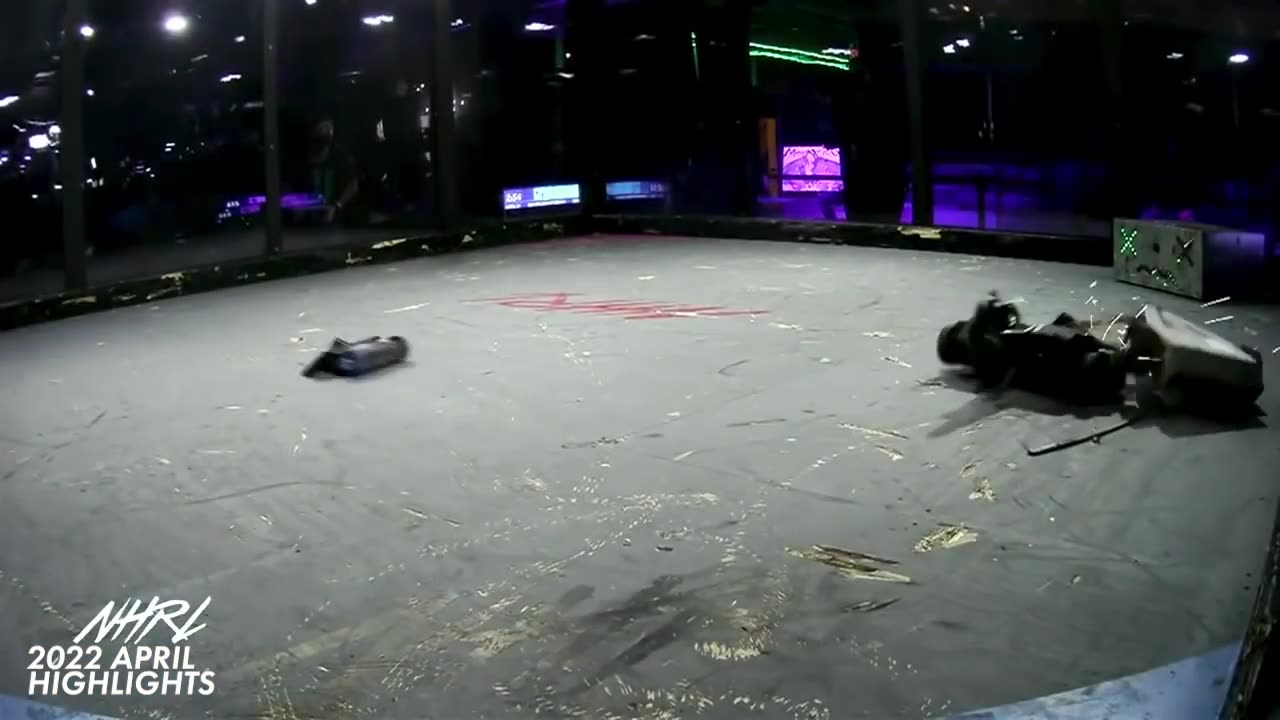combatbot: (937, 300, 1121, 395), (1115, 302, 1260, 416)
housebot: (1114, 217, 1262, 303)
minibot: (303, 333, 412, 378)
